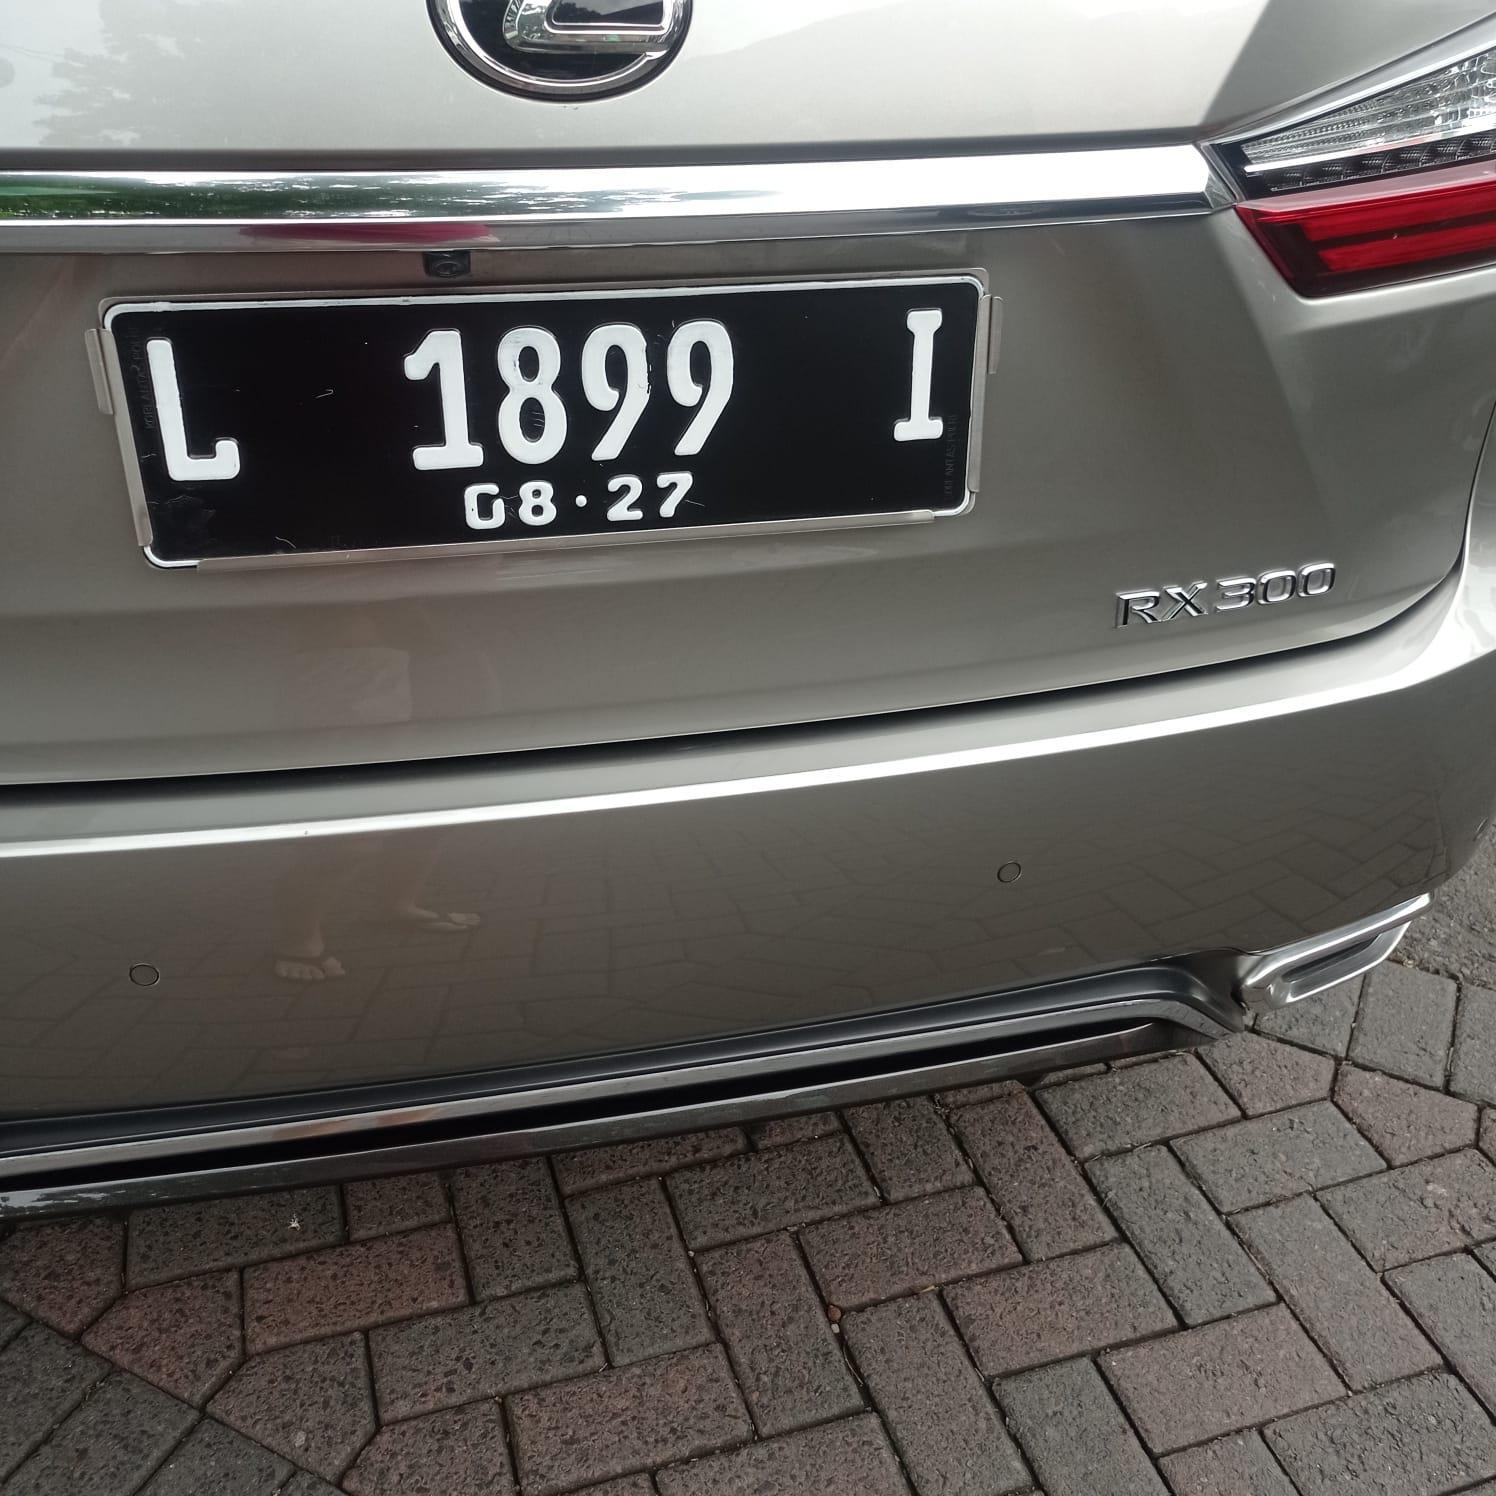plat: (93, 274, 988, 567)
